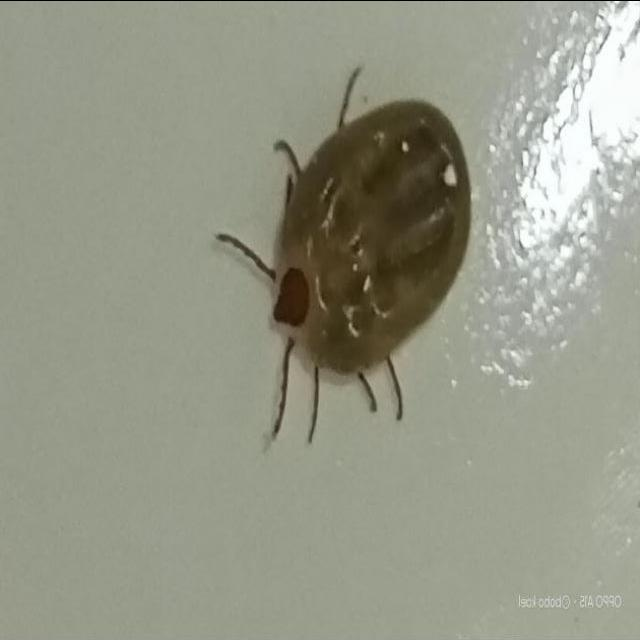Rhipicephalus Sanguineus-F-Fed: (215, 64, 472, 454)
